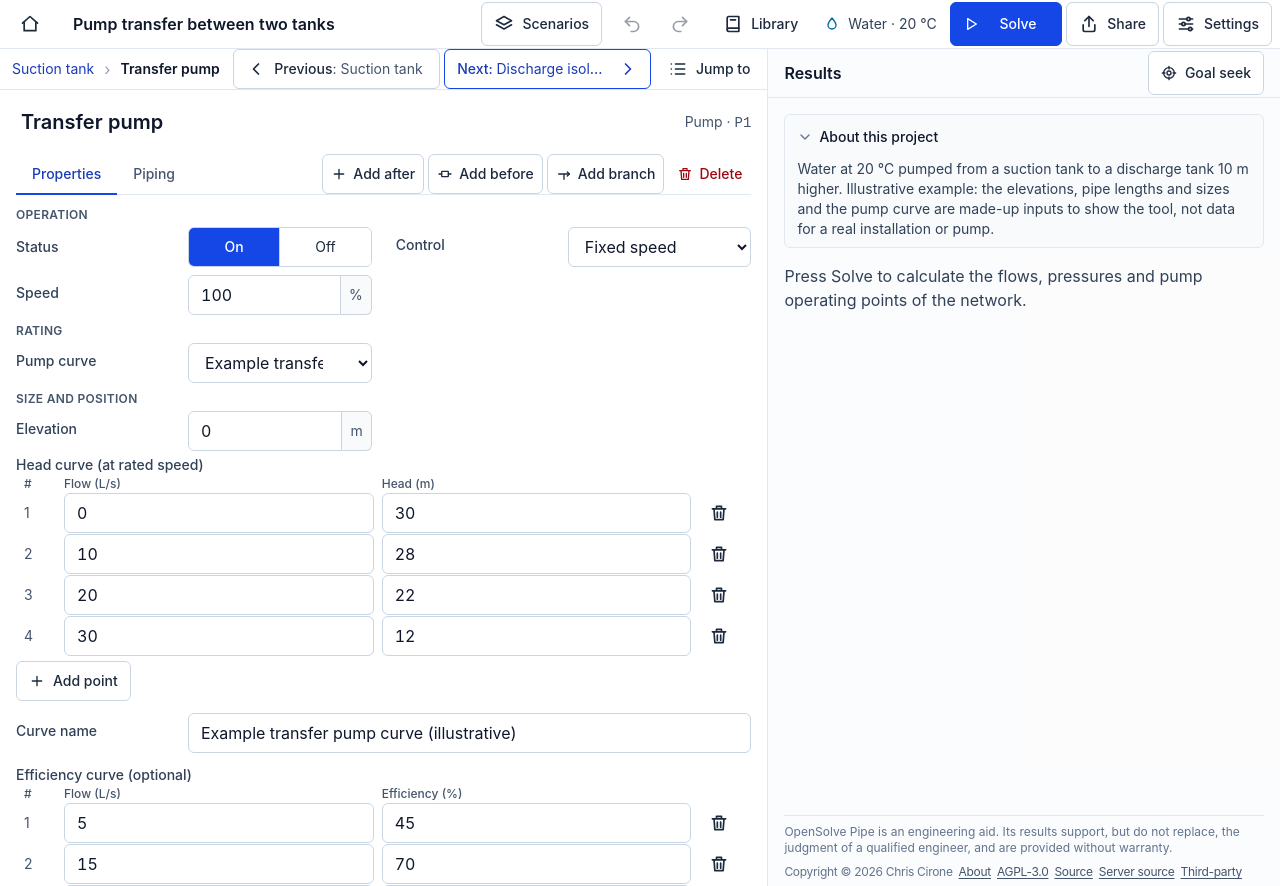
Test case: adding an orifice plate › before a pump (inserted): the bore is asked for there too, the plate oriented with the flow
Click the button "Add before" at point(485, 174), box [428, 154, 543, 194]
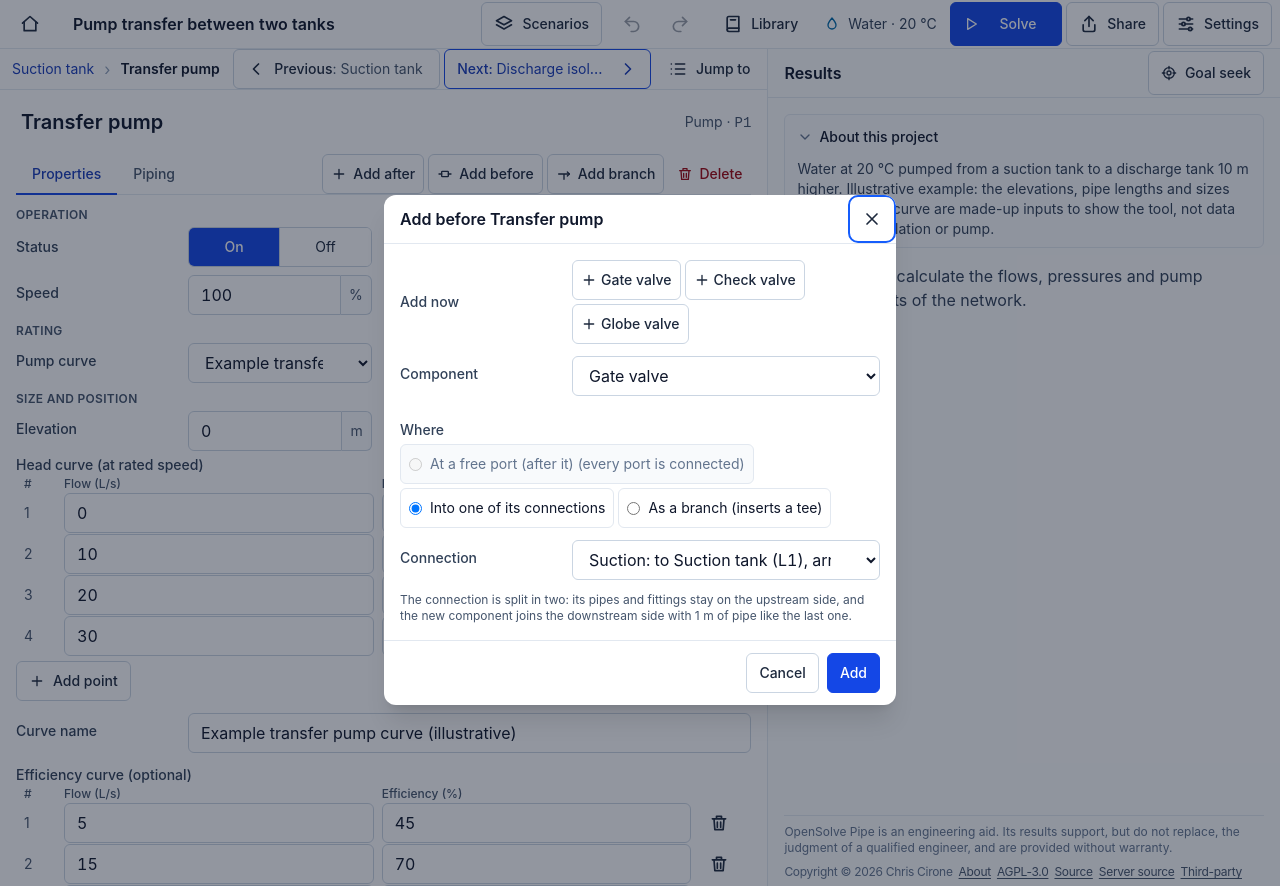
Select "Orifice plate (ISO 5167-2)" in the dropdown labelled "Component" at point(726, 376), box [572, 356, 880, 396]
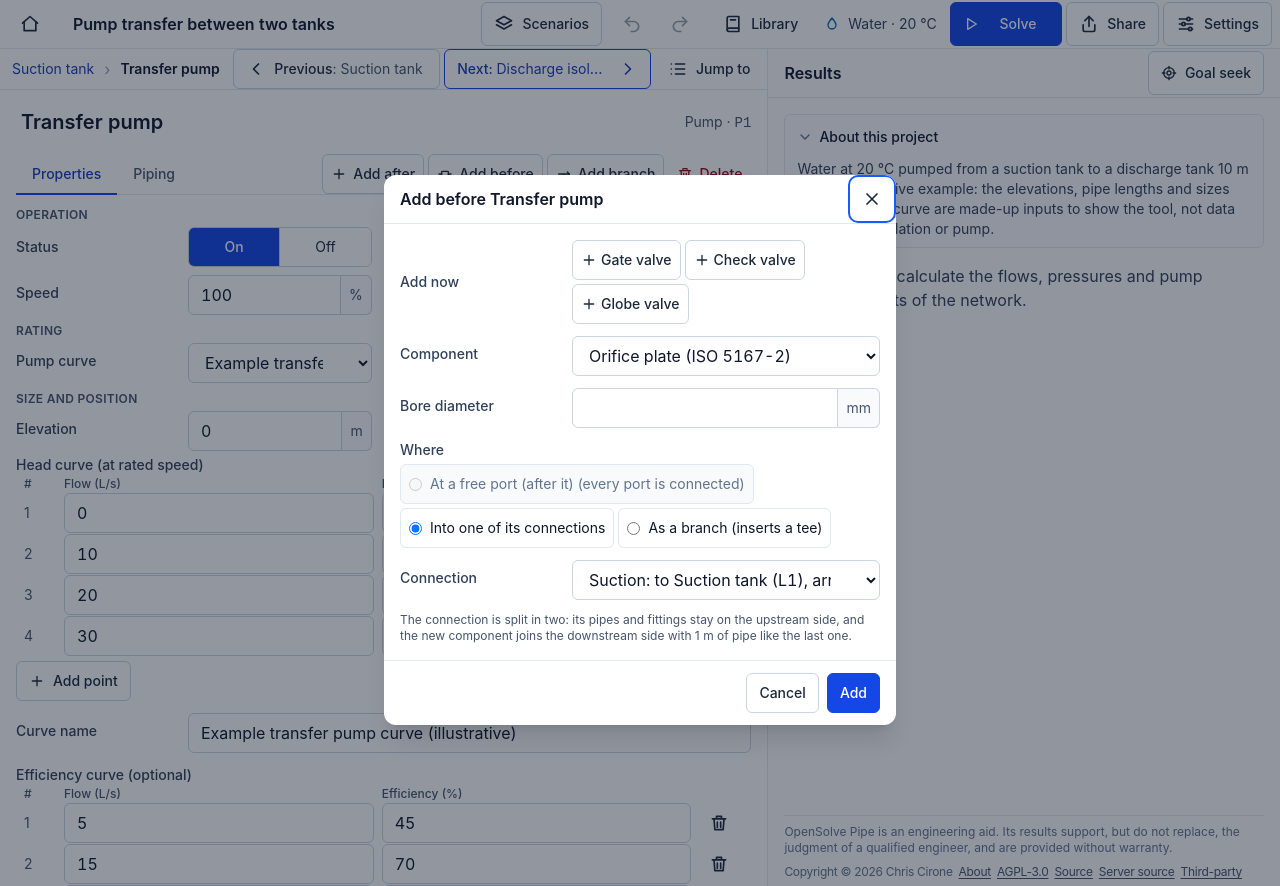
Click the button "Add" at point(853, 693), box [827, 673, 880, 713]
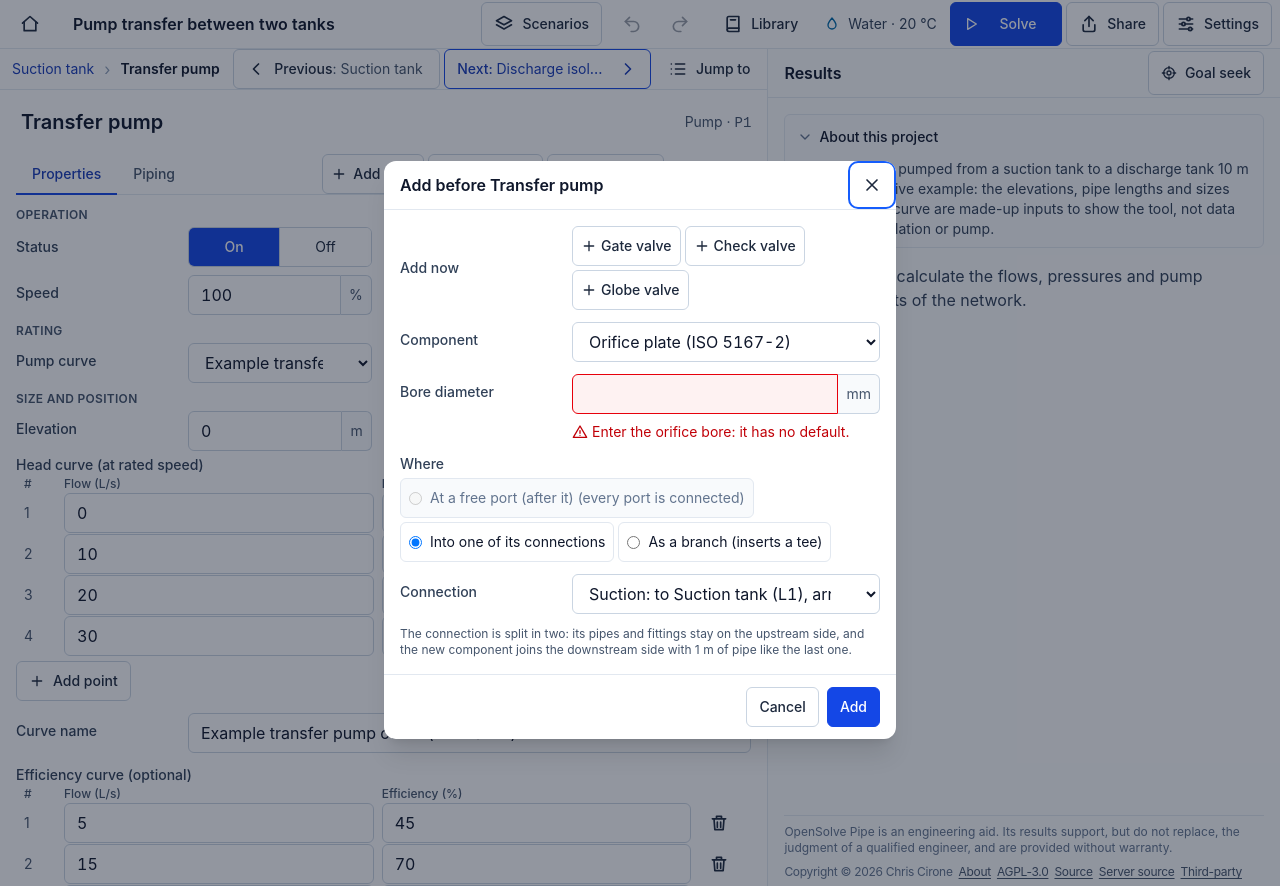
expect the message reads "Enter the orifice bore: it has no default.": met, box [592, 423, 850, 440]
Type "60" into the field named "Bore diameter (mm)" at point(705, 394), box [572, 374, 838, 414]
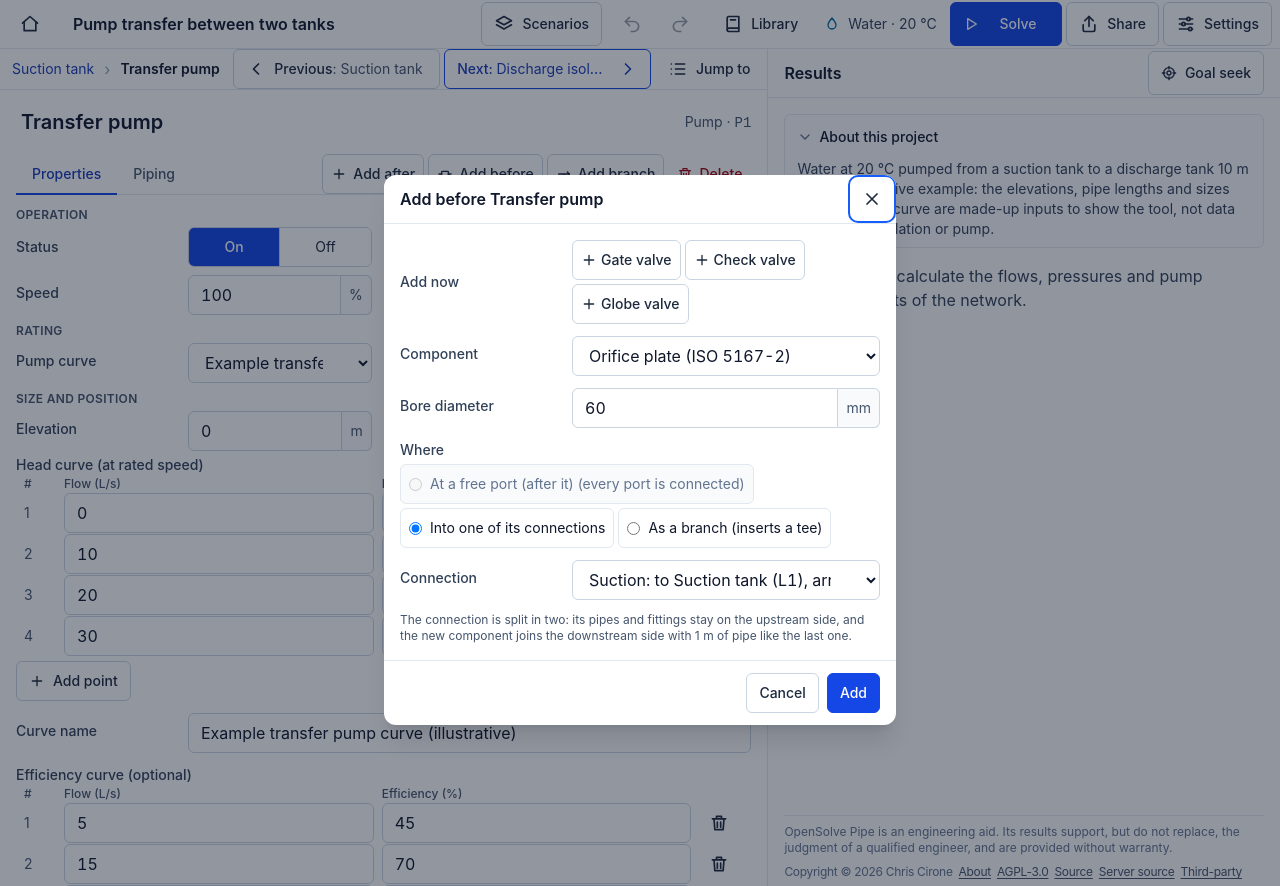
Click the button "Add" at point(853, 693), box [827, 673, 880, 713]
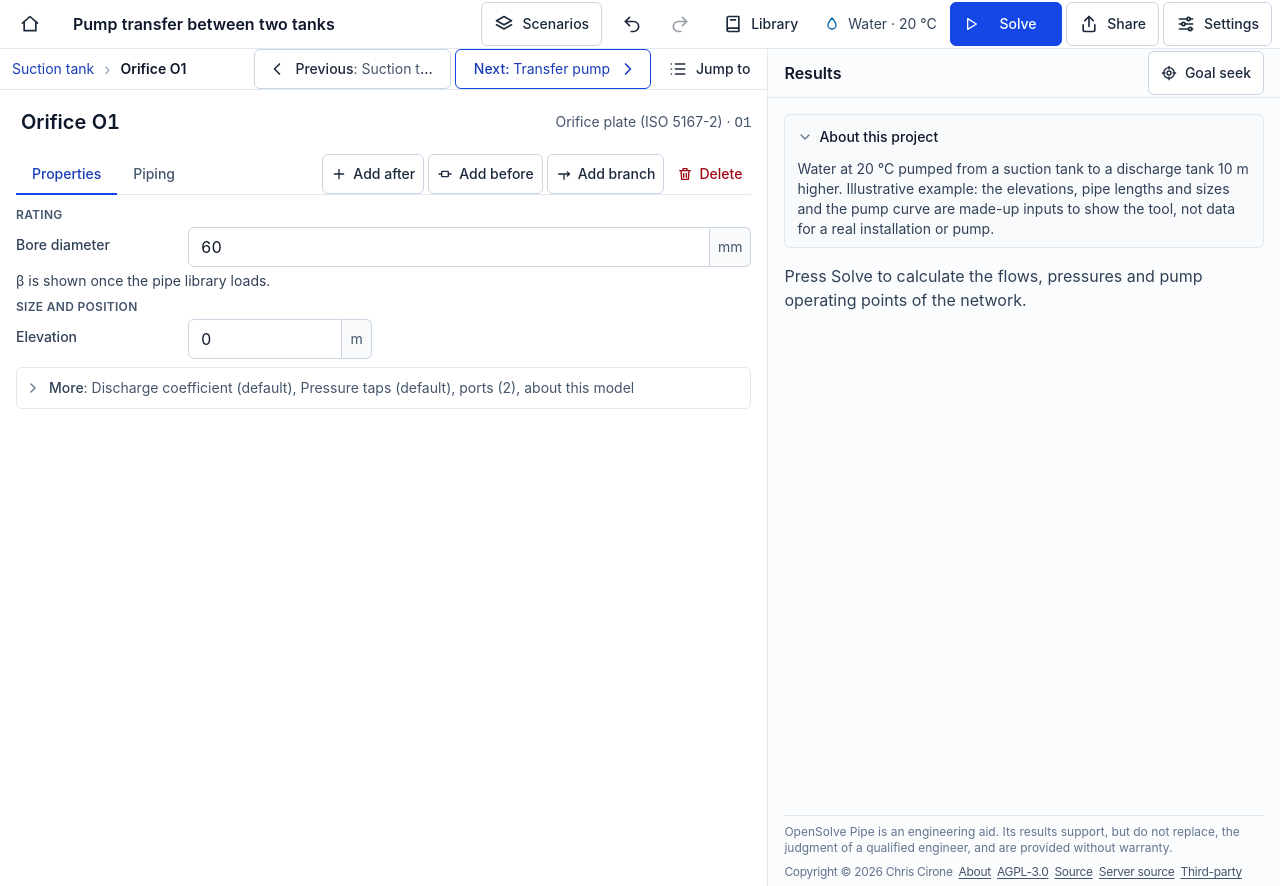
expect the dialog is gone: met
